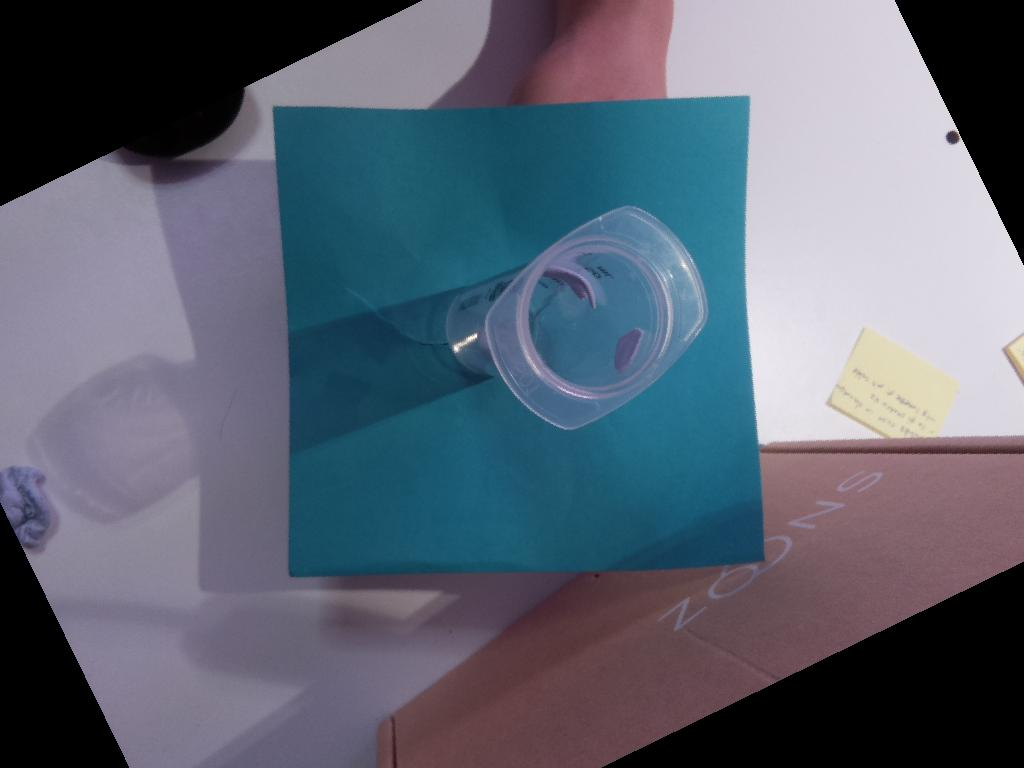dirty: (486, 207, 710, 431)
